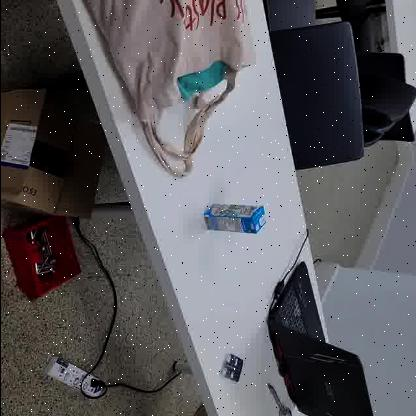Others: (200, 201, 272, 237)
